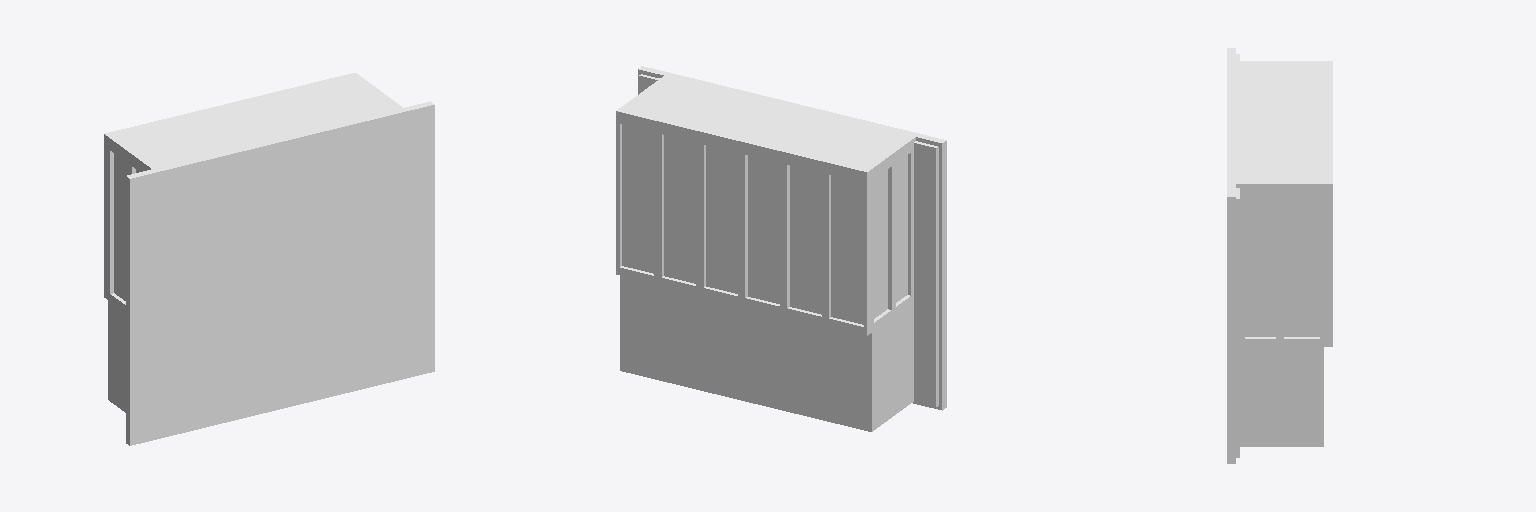
Rendered from dom-10.obj.
3 renders of one model, left to right at view 1: azimuth 30°, elevation 25°; view 2: azimuth 150°, elevation 25°; view 3: azimuth 270°, elevation 25°, orthographic.
Visible parts, largest first — view 1: object 1; view 2: object 1; view 3: object 1.
Boxes of the visible parts, <box> form: object 1: <box>104,73,434,445</box>; object 1: <box>616,66,946,431</box>; object 1: <box>1227,48,1332,463</box>.
Bounding box in the file's own units: 8 × 6.7 × 2.4.